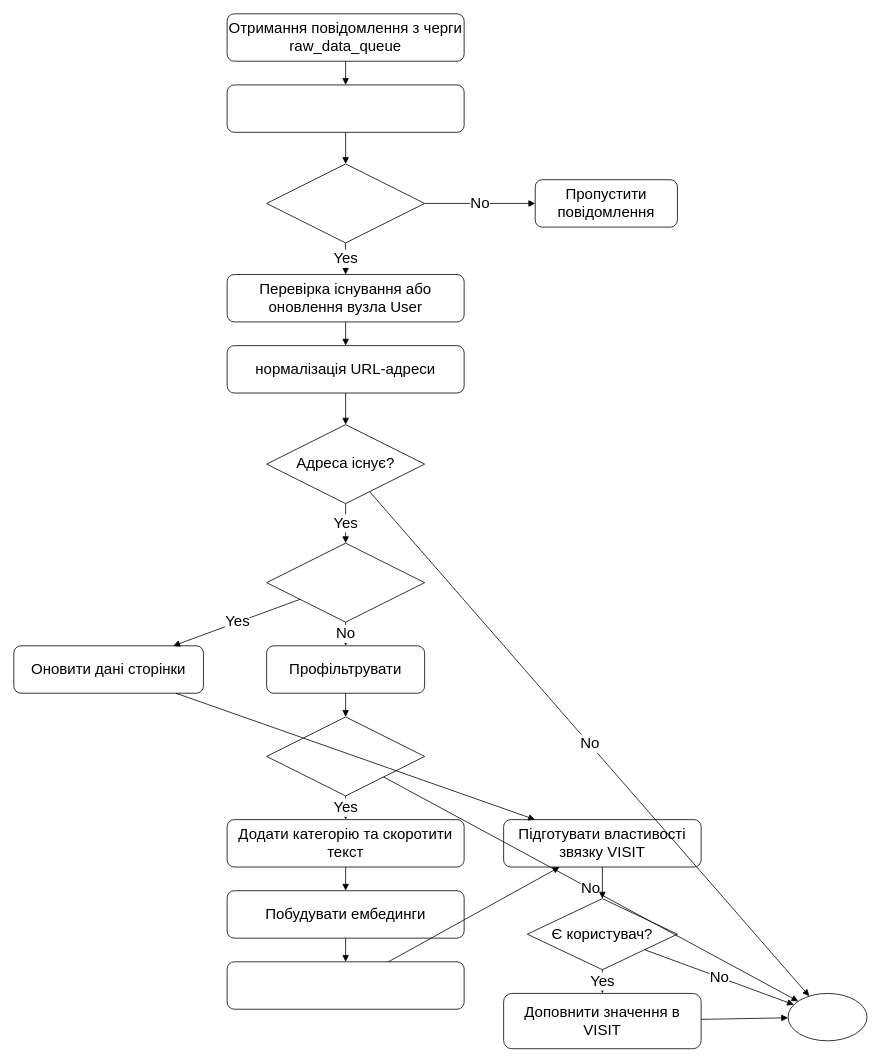
Image size: 881x1063. Some labels were removed from this diagram. Each missing label, with the centre of its shape:
"вилучення даних користувача і записів" belongs at point 345,108.
"Кінець" belongs at point 827,1017.
"Потрібна обробка?" belongs at point 345,756.
"Створити сторінку, категорію, звязок" belongs at point 345,985.
"Сторінка є в БД?" belongs at point 345,582.
"Є валідні значення?" belongs at point 345,203.
